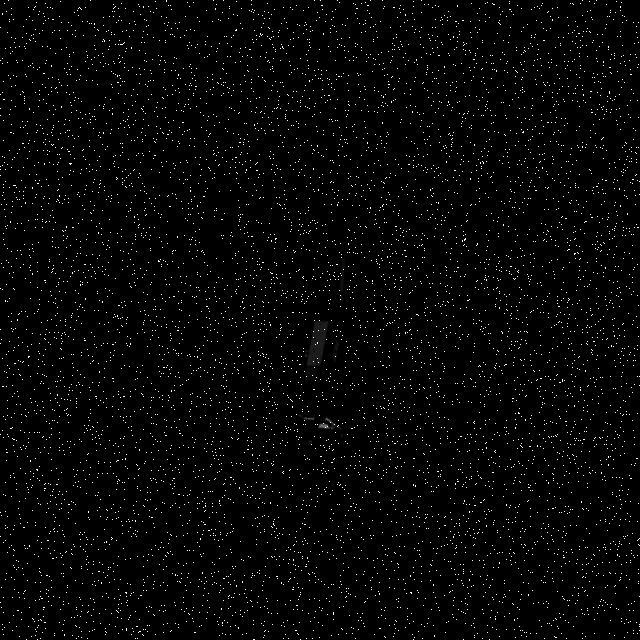satellite: (282, 318, 378, 436)
